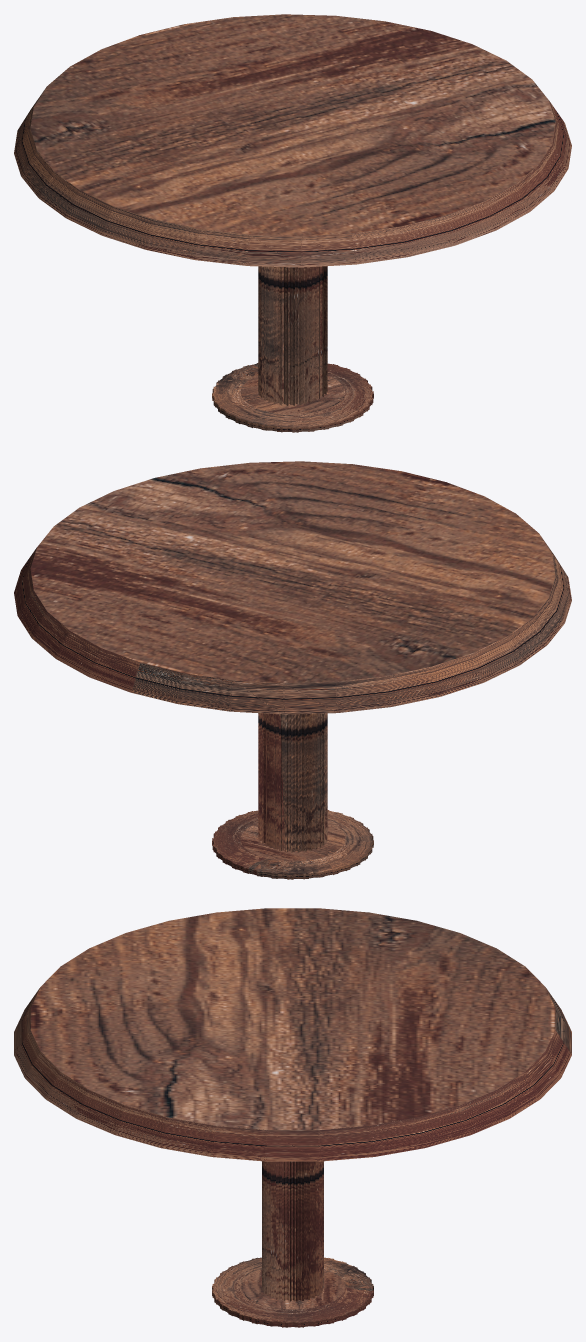
The model's file is table.glb.
The picture shows the model from 3 angles, top to bottom: view 1: azimuth 30°, elevation 25°; view 2: azimuth 150°, elevation 25°; view 3: azimuth 270°, elevation 25°; orthographic projection.
Parts seen in each view (by area): view 1: Cylinder.002; view 2: Cylinder.002; view 3: Cylinder.002.
Boxes of the visible parts, bbox=[...] form: Cylinder.002: bbox=[14, 14, 571, 432]; Cylinder.002: bbox=[14, 461, 571, 879]; Cylinder.002: bbox=[14, 908, 571, 1327].
Size of the model in its own units: 3.53 by 1.97 by 3.53.
1 material, 1 textured.
